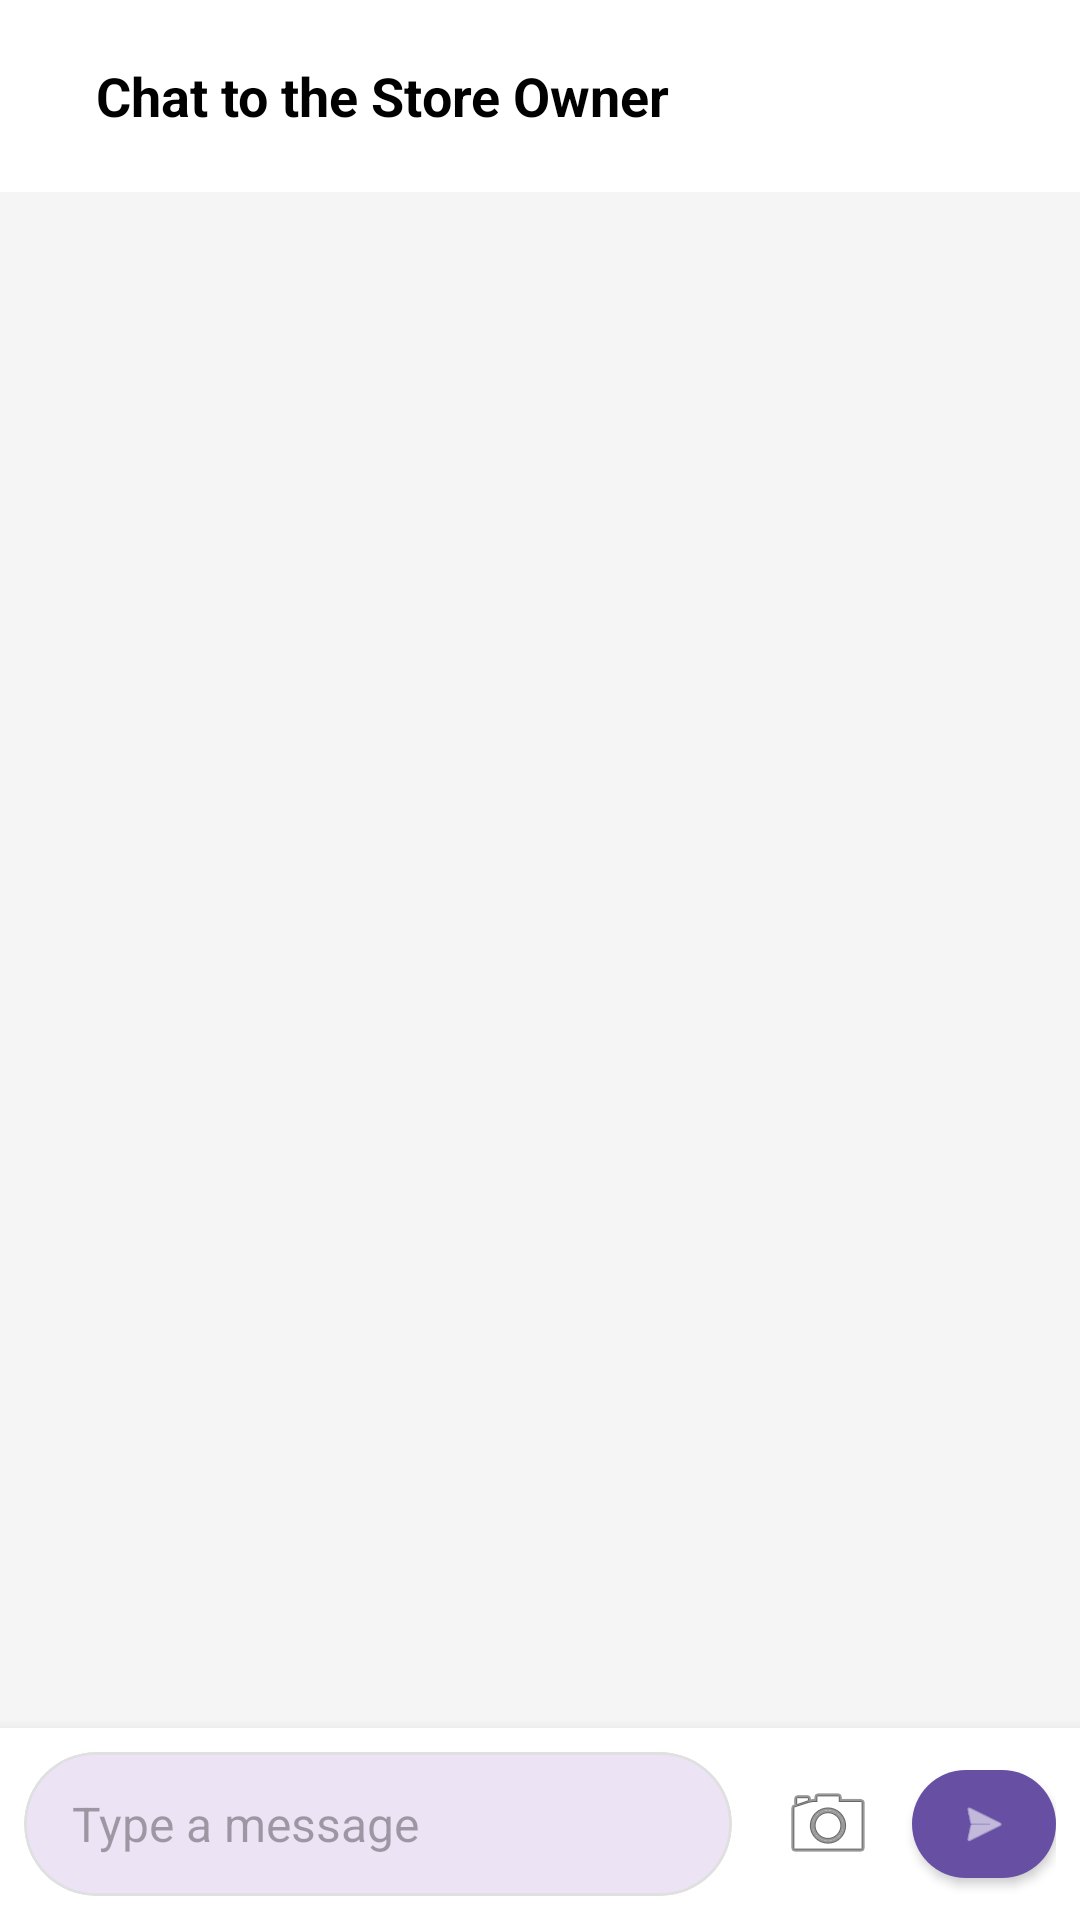

Point at icon controls on the screen. Image size 1080x1920, points as (x,y).
send: (984,1827)
Upload image: (828,1822)
